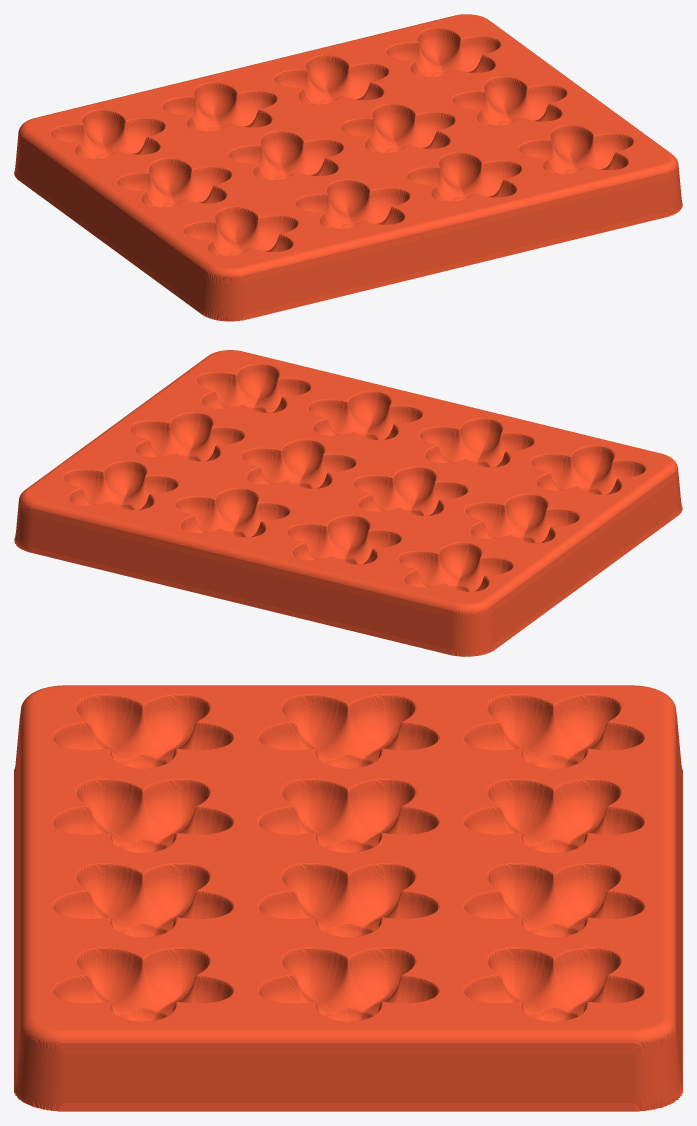
File: mold.glb
3 views of the same model, one above another, from view 1: azimuth 30°, elevation 25°; view 2: azimuth 150°, elevation 25°; view 3: azimuth 270°, elevation 25° (orthographic). The views are drawn at different scales.
Visible parts, largest first — view 1: geometry_0; view 2: geometry_0; view 3: geometry_0.
Part boxes in pixels (left/top/right/bottom): geometry_0: left=14, top=14, right=682, bottom=321; geometry_0: left=14, top=350, right=682, bottom=656; geometry_0: left=14, top=685, right=682, bottom=1111.
Size of the model in its own units: 0.1517 by 0.0145 by 0.1192.
